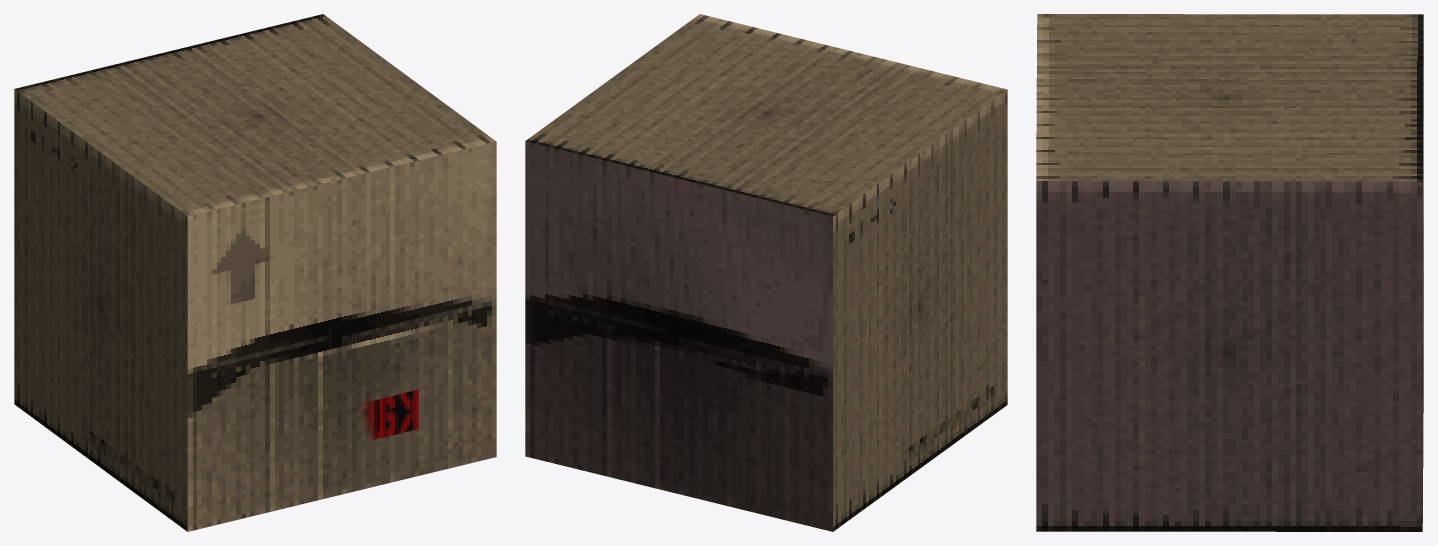
The model's file is primary_158.glb.
3 renders of one model, left to right at view 1: azimuth 30°, elevation 25°; view 2: azimuth 150°, elevation 25°; view 3: azimuth 270°, elevation 25°, orthographic. The views are drawn at different scales.
Parts seen in each view (by area): view 1: Object; view 2: Object; view 3: Object.
Boxes of the visible parts, x1,y1,x2,y2 form: Object: (14, 14, 496, 531); Object: (525, 14, 1007, 531); Object: (1036, 14, 1423, 531).
Bounding box in the file's own units: 1.12 × 1.09 × 1.1.
7 materials, 7 textured.
